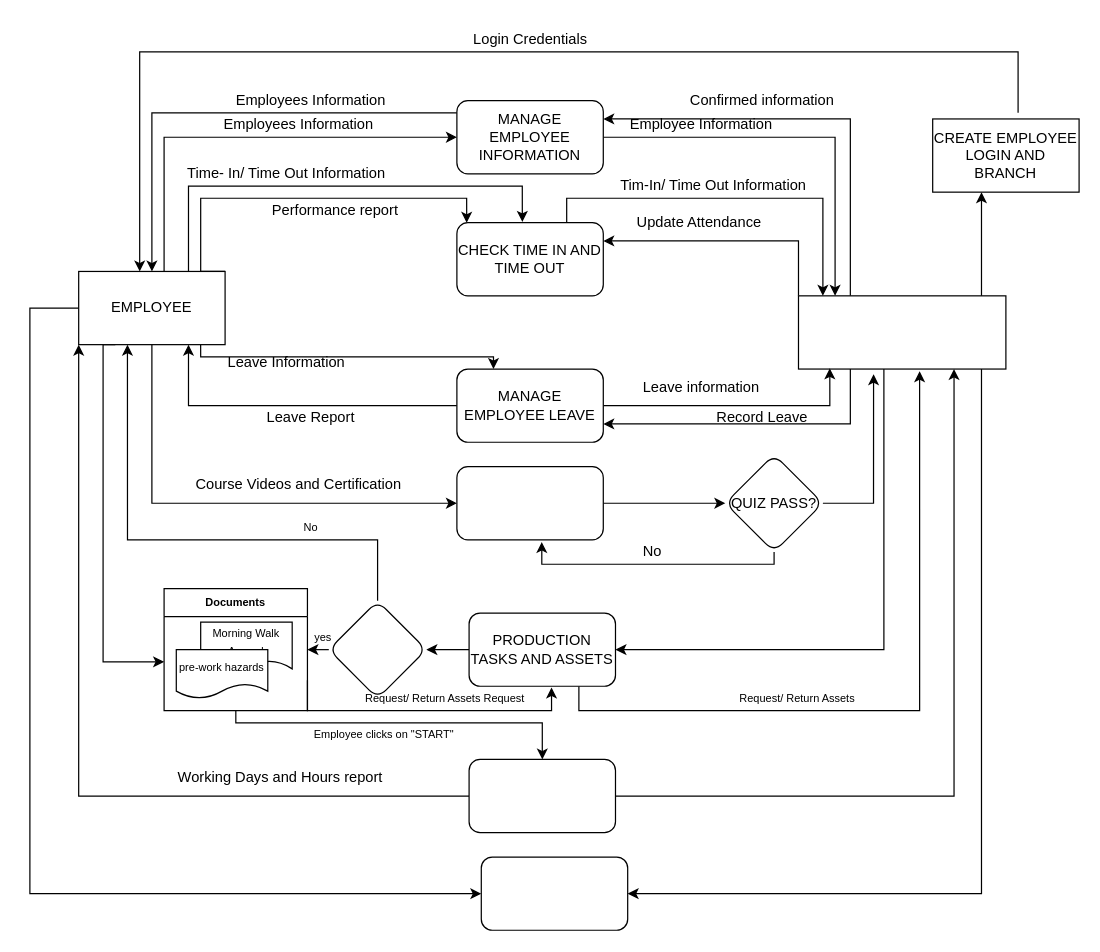
Image size: 1100x952. Some labels were removed from this diagram. The shapes that lost their labels are listed below. From the top down, each one's centre as x and y in pixels, then its label:
the point at 901,332: ADMIN/ MANAGER
the point at 529,502: EMPLOYEE TRAINING
the point at 377,649: Signed pre-requisite?
the point at 541,795: MONITOR WORKING DAYS AND HOURS
the point at 554,893: LOGOUT
